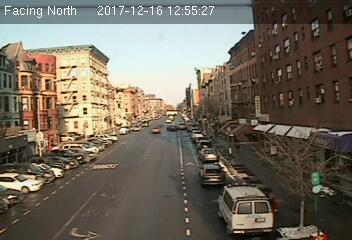car: (199, 160, 224, 186), (201, 147, 217, 161)
police: (215, 181, 273, 237)
